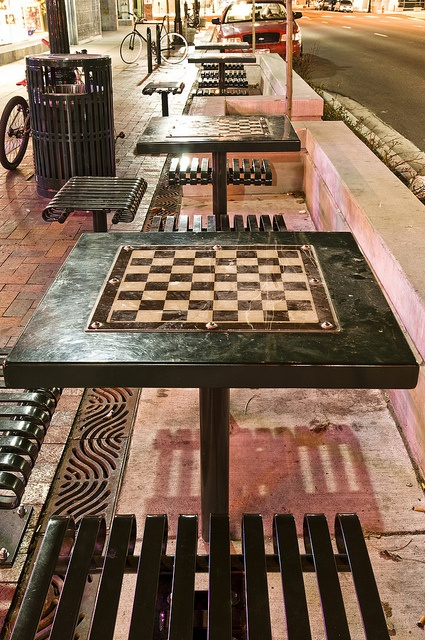non-vehicle: (119, 10, 188, 64), (0, 79, 30, 175), (186, 8, 198, 27)
